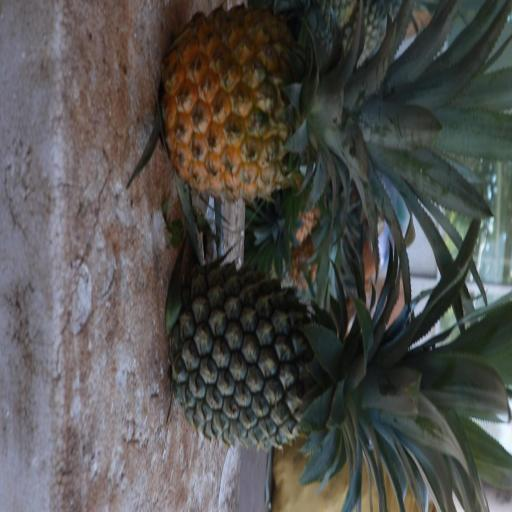Pineapple - v8 v1: (160, 22, 445, 192)
